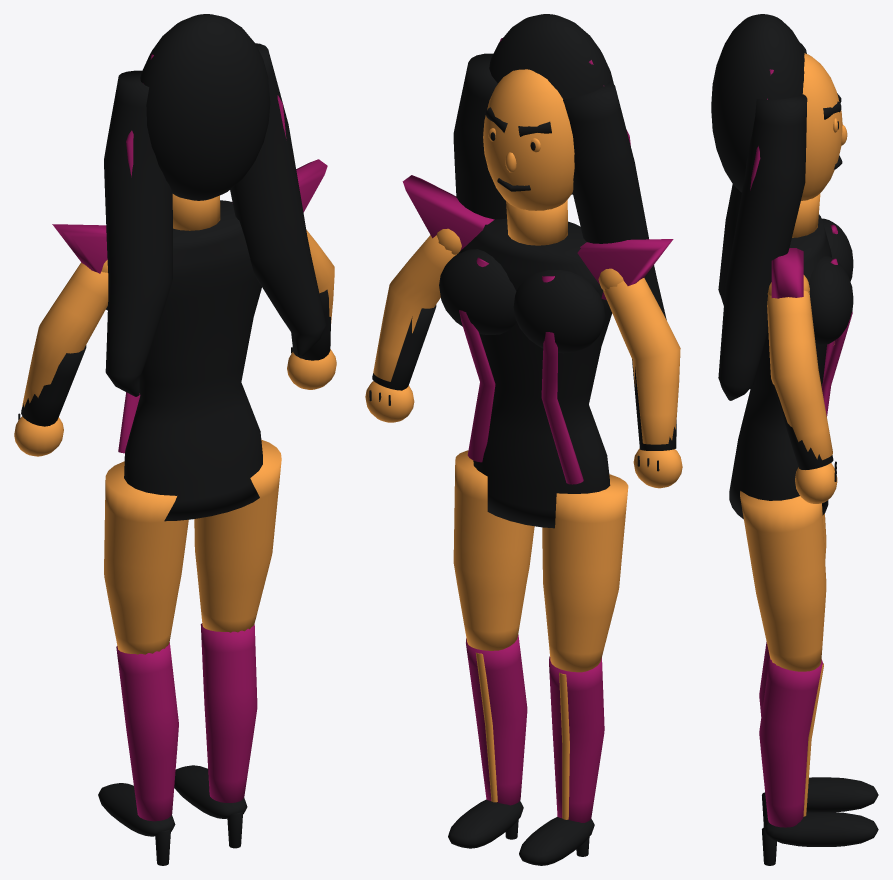
The model's file is DarkQueen.glb.
3 views of the same model, side by side, from view 1: azimuth 30°, elevation 25°; view 2: azimuth 150°, elevation 25°; view 3: azimuth 270°, elevation 25° (orthographic).
Parts seen in each view (by area): view 1: Hair, Body, LeftLeg, RightLowerLeg, LeftLowerLeg, RightLeg, LeftArm, RightArm, Head; view 2: Body, Hair, LeftLeg, Head, RightLeg, RightLowerLeg, LeftLowerLeg, LeftArm, RightArm; view 3: Hair, Body, RightLeg, RightLowerLeg, RightArm, Head, LeftLowerLeg.
Part boxes in pixels (x1,y1,x2,y2): Hair: (104, 14, 326, 396); Body: (52, 159, 327, 521); LeftLeg: (104, 461, 188, 654); RightLowerLeg: (174, 623, 257, 848); LeftLowerLeg: (98, 642, 178, 865); RightLeg: (194, 439, 281, 632); LeftArm: (14, 260, 108, 456); RightArm: (287, 230, 336, 389); Head: (172, 194, 220, 230); Body: (402, 175, 673, 528); Hair: (453, 14, 666, 319); LeftLeg: (542, 474, 628, 672); Head: (483, 69, 574, 245); RightLeg: (453, 450, 534, 650); RightLowerLeg: (448, 635, 527, 848); LeftLowerLeg: (519, 656, 604, 865); LeftArm: (598, 268, 682, 488); RightArm: (365, 228, 461, 422); Hair: (711, 14, 807, 400); Body: (729, 214, 853, 519); RightLeg: (740, 491, 826, 671); RightLowerLeg: (759, 658, 878, 865); RightArm: (767, 275, 837, 503); Head: (792, 53, 847, 237); LeftLowerLeg: (759, 642, 878, 827).
Bounding box in the file's own units: 0.9871 × 2.49 × 0.4565.
1 material, 1 textured.
